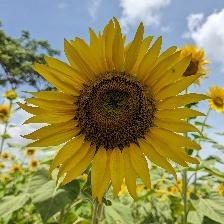sunflower: (17, 15, 214, 205), (169, 43, 211, 89), (207, 85, 224, 114)
